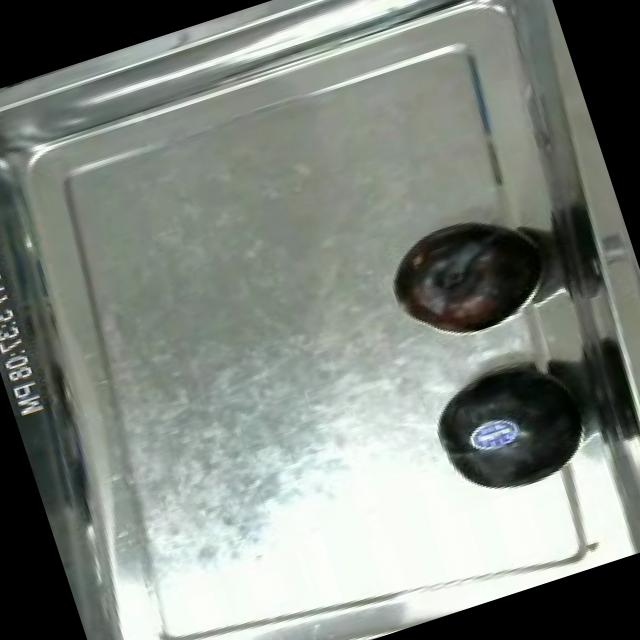Fruit: (410, 338, 607, 522), (372, 196, 562, 358)
